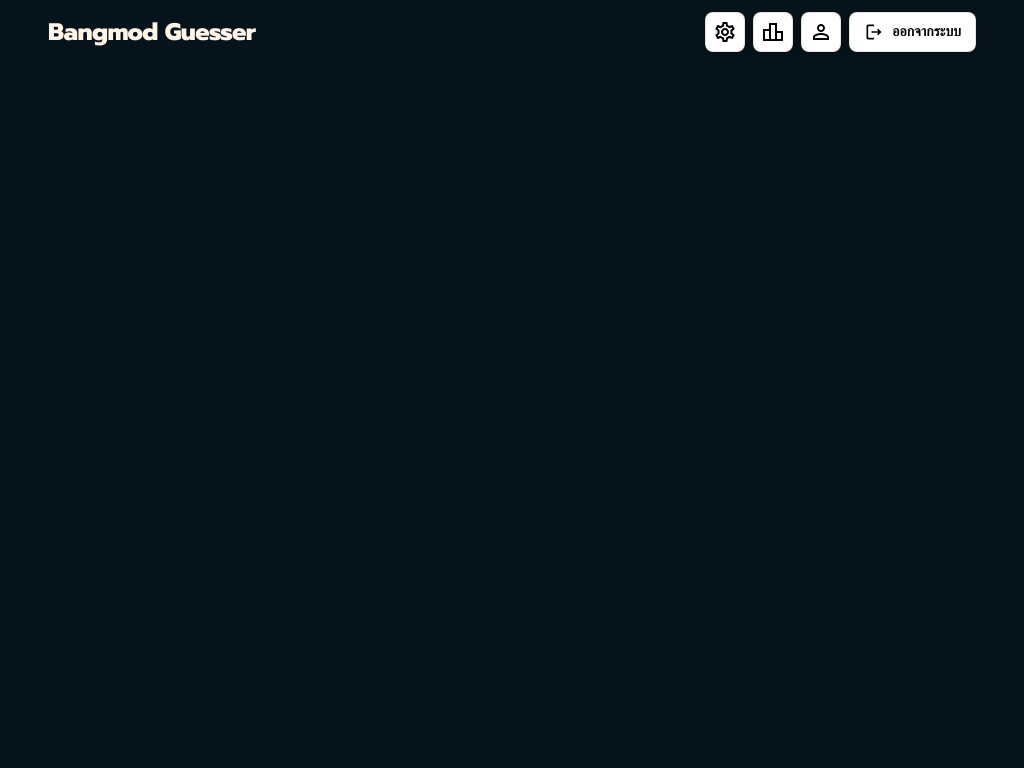
Test: Navbar logout › opens a confirmation dialog and leaves the user signed in when cancelled
Click the button "ออกจากระบบ" at (913, 32), box [849,12,976,52]
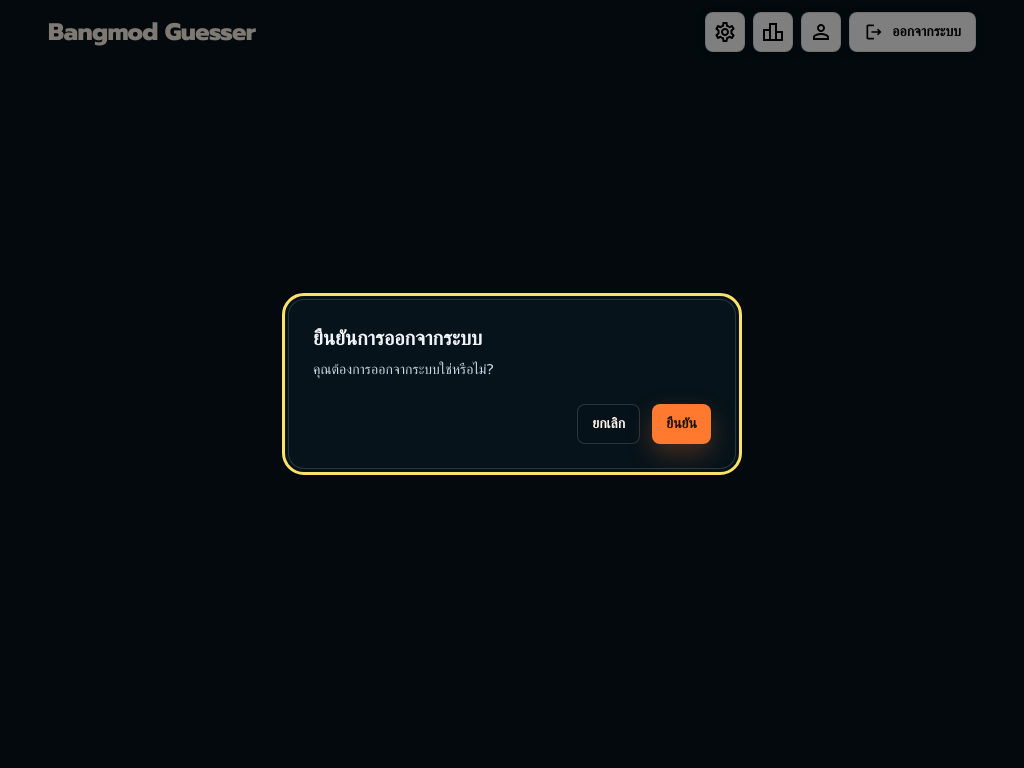
Click the button "ยกเลิก" at (609, 424), box [577,404,640,444]
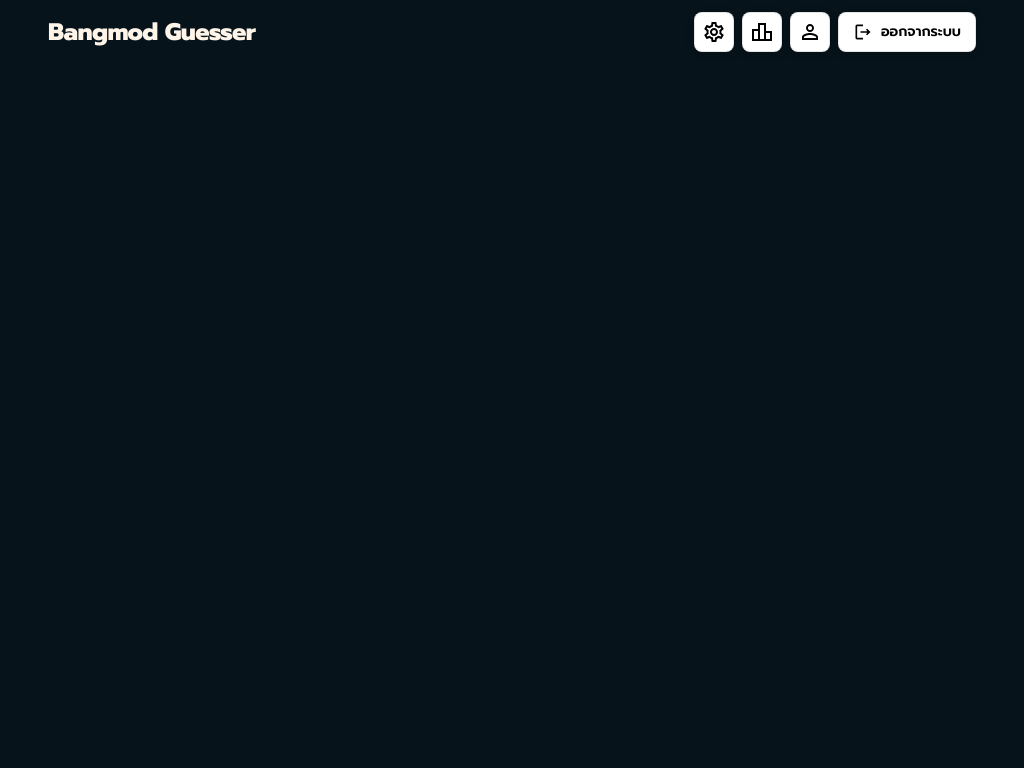
Expected: the dialog is gone
